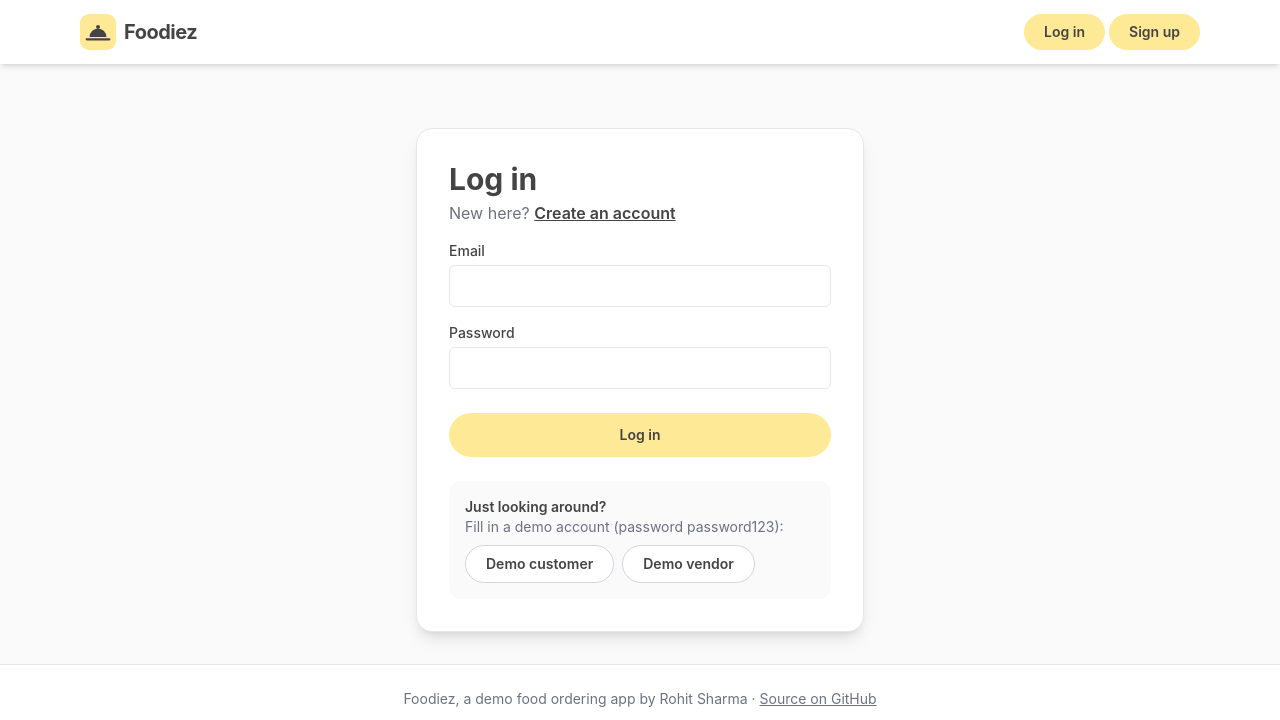
Test: login page › takes vendors to their restaurants
Type "vendor@foodiez.dev" into the field labelled "Email".
click(640, 286); type("vendor@foodiez.dev")  # box x1=449 y1=265 x2=831 y2=307
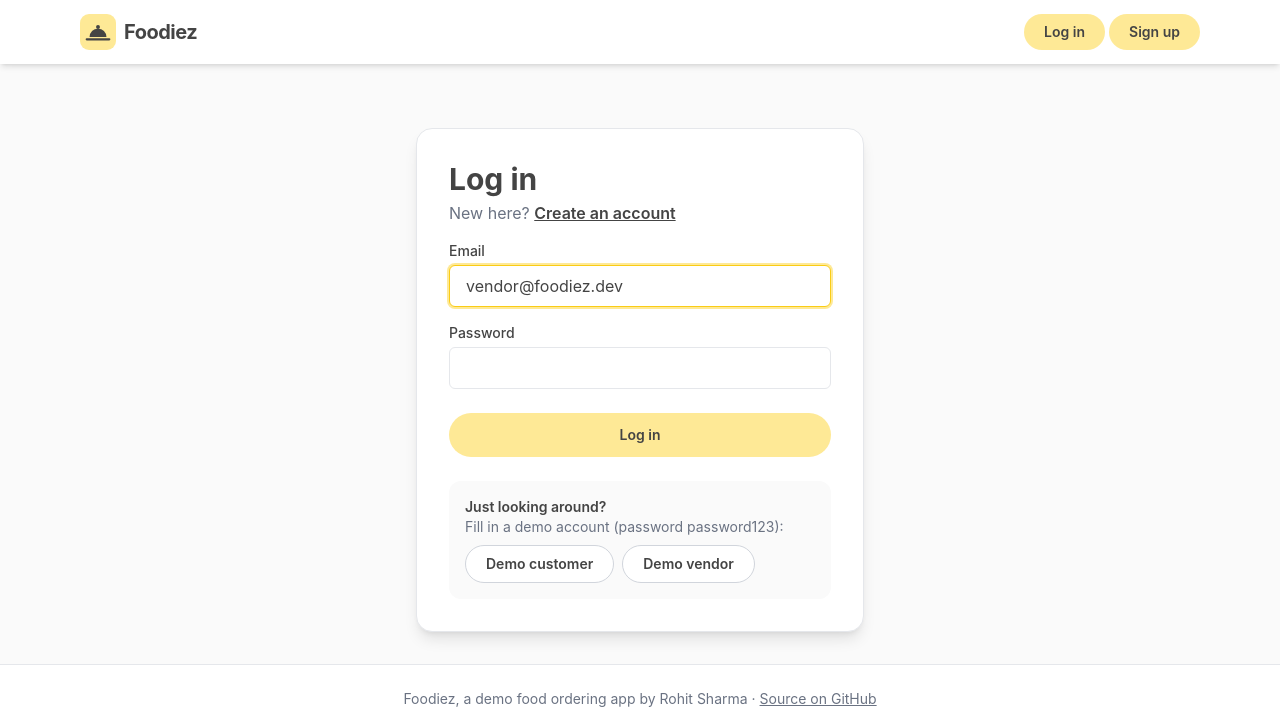
Type "password123" into the password field labelled "Password".
click(640, 368); type("password123")  # box x1=449 y1=347 x2=831 y2=389
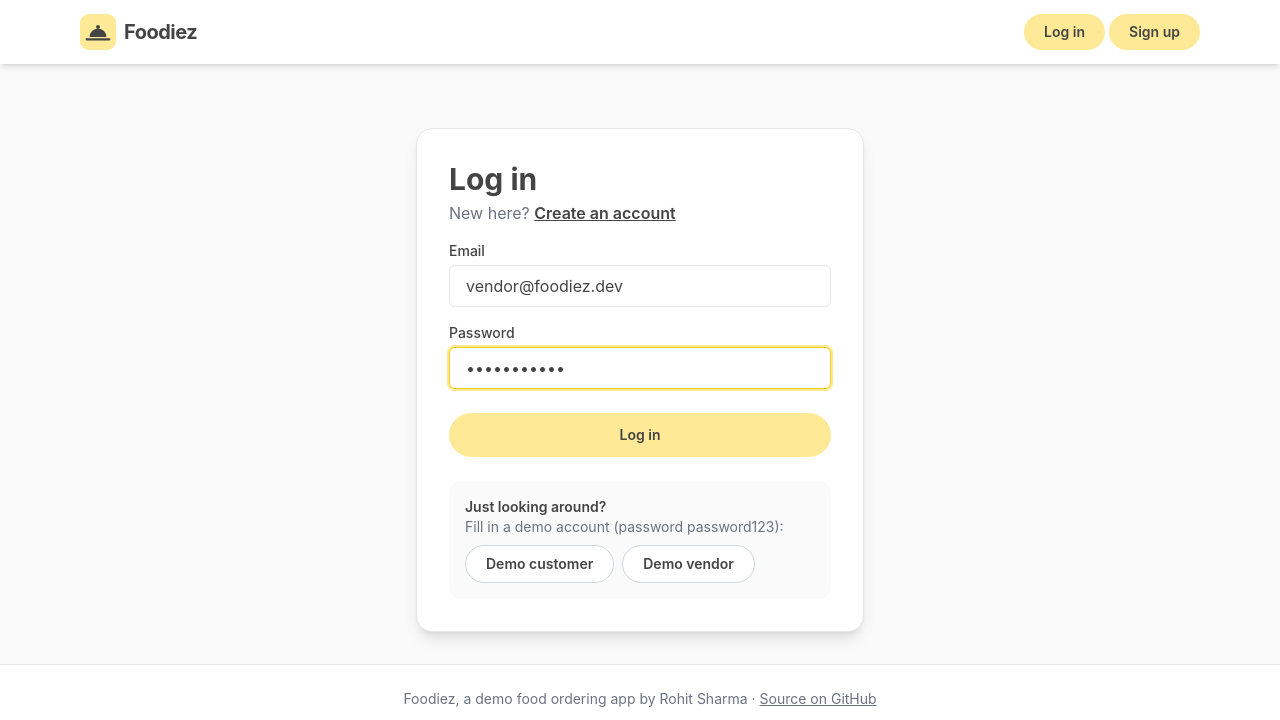
Click the button "Log in".
click(640, 435)  # box x1=449 y1=413 x2=831 y2=457
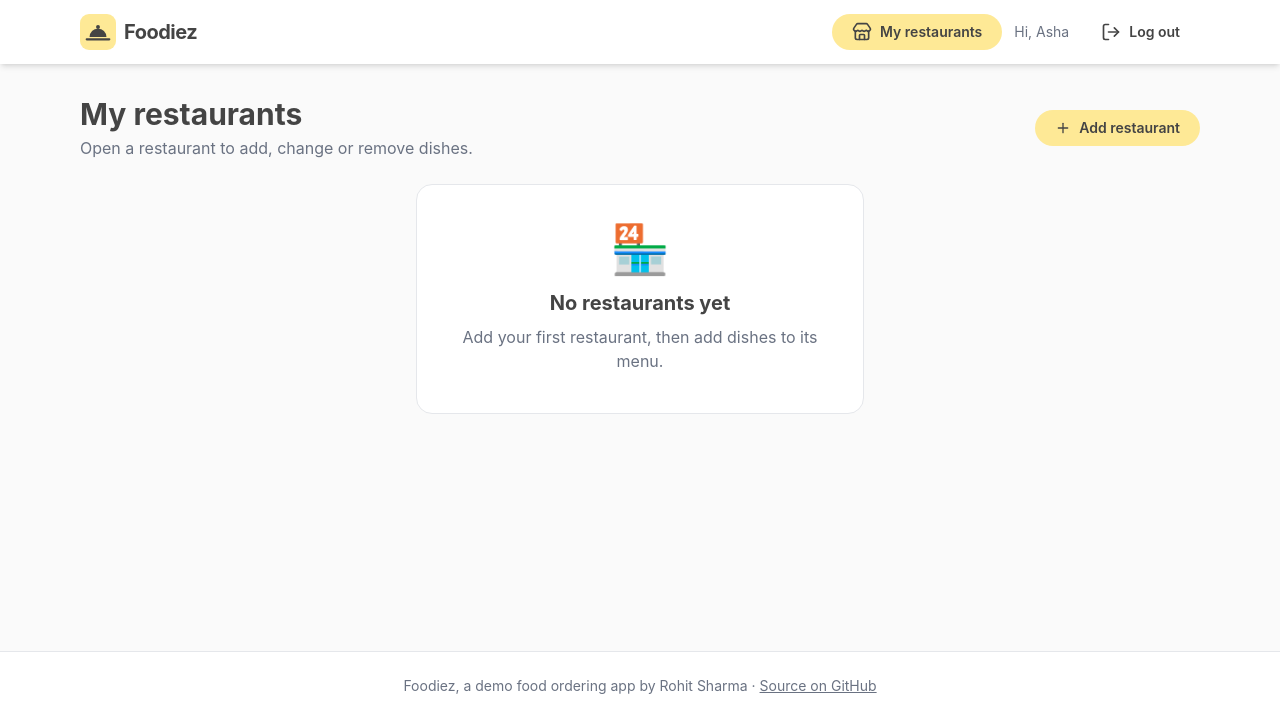
Now the heading "My restaurants" is shown, box x1=80 y1=96 x2=302 y2=132
